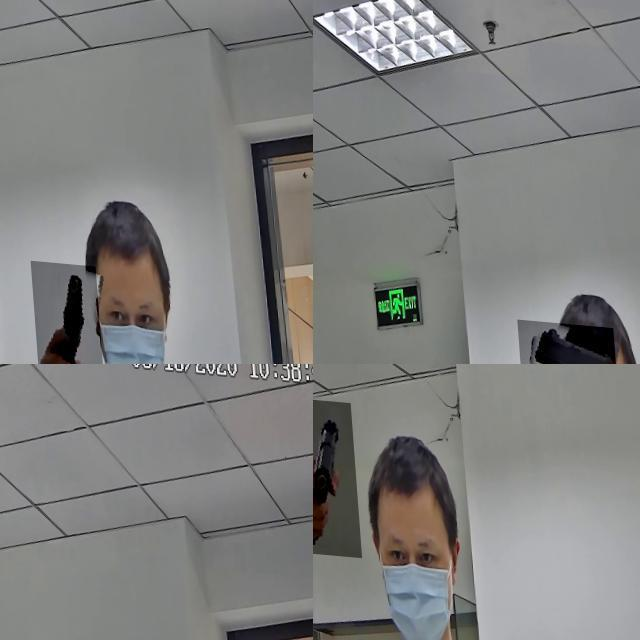gun-knife-thesis - v11 Yolov5 augmented: (23, 255, 97, 364), (313, 396, 354, 555), (511, 314, 614, 364)
